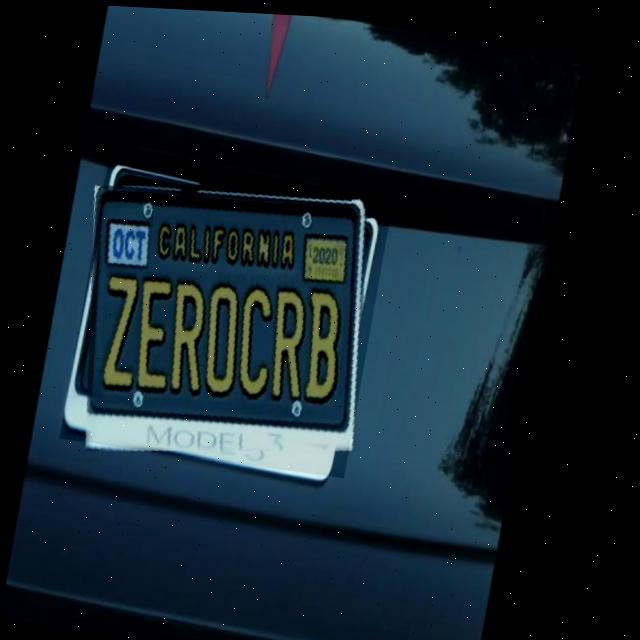LicensePlate: (65, 155, 398, 475)
